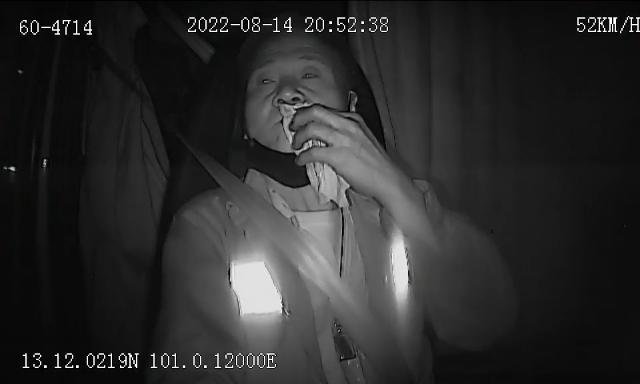SafeDriving: (252, 68, 284, 92)
Seatbelt: (188, 148, 384, 346)
